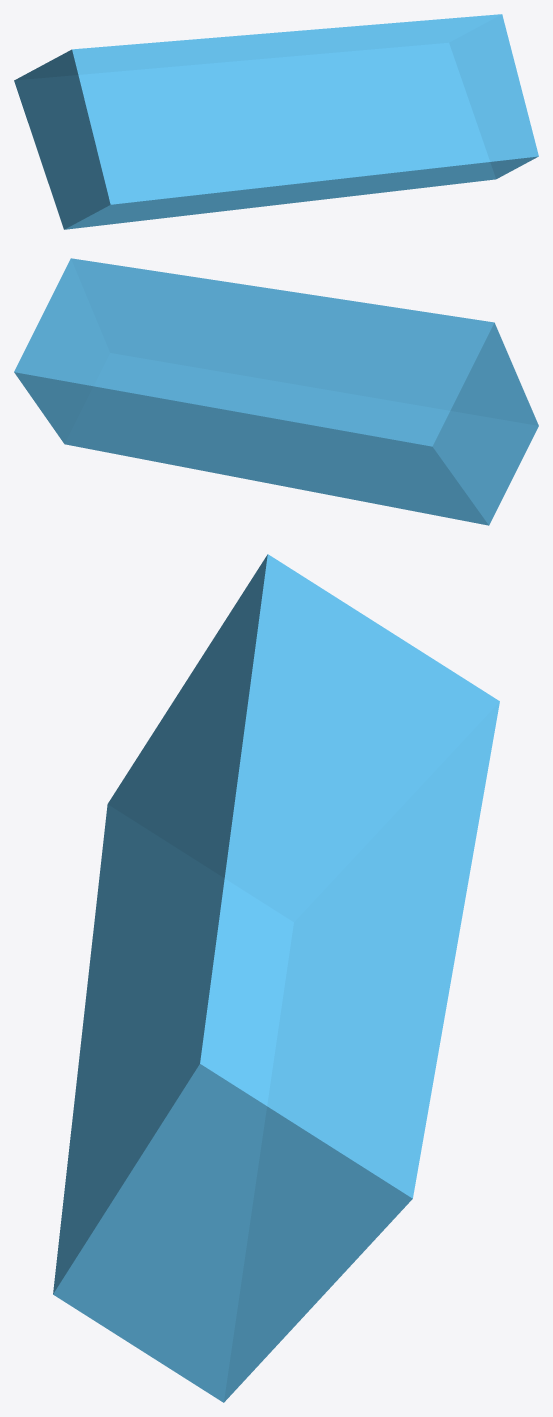
Rendered from Event_421115418_HErechit_30.fbx.
3 views of the same model, one above another, from view 1: azimuth 30°, elevation 25°; view 2: azimuth 150°, elevation 25°; view 3: azimuth 270°, elevation 25° (orthographic). The views are drawn at different scales.
Parts seen in each view (by area): view 1: Model; view 2: Model; view 3: Model.
Part boxes in pixels (x1,y1,x2,y2): Model: [14, 14, 538, 229]; Model: [14, 258, 538, 525]; Model: [53, 554, 499, 1402].
Size of the model in its own units: 0.928 by 0.4765 by 0.4332.
